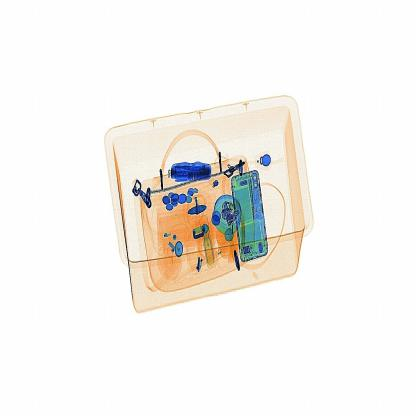scissors: (162, 159, 211, 187)
